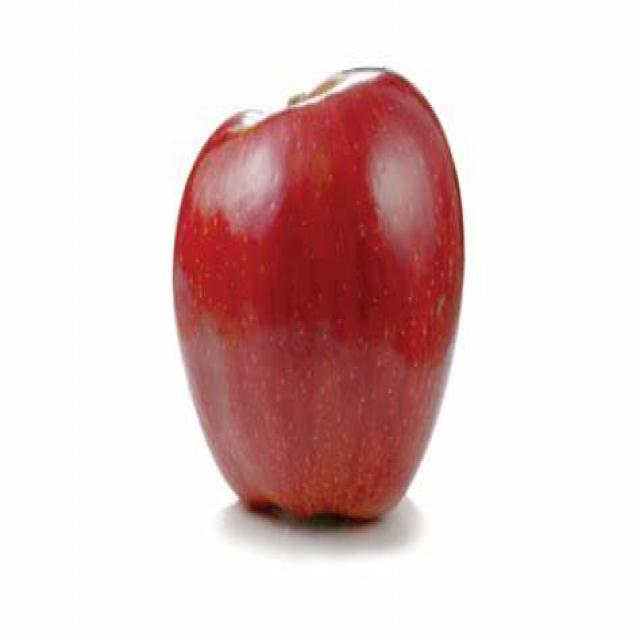Apple: (164, 62, 467, 530)
